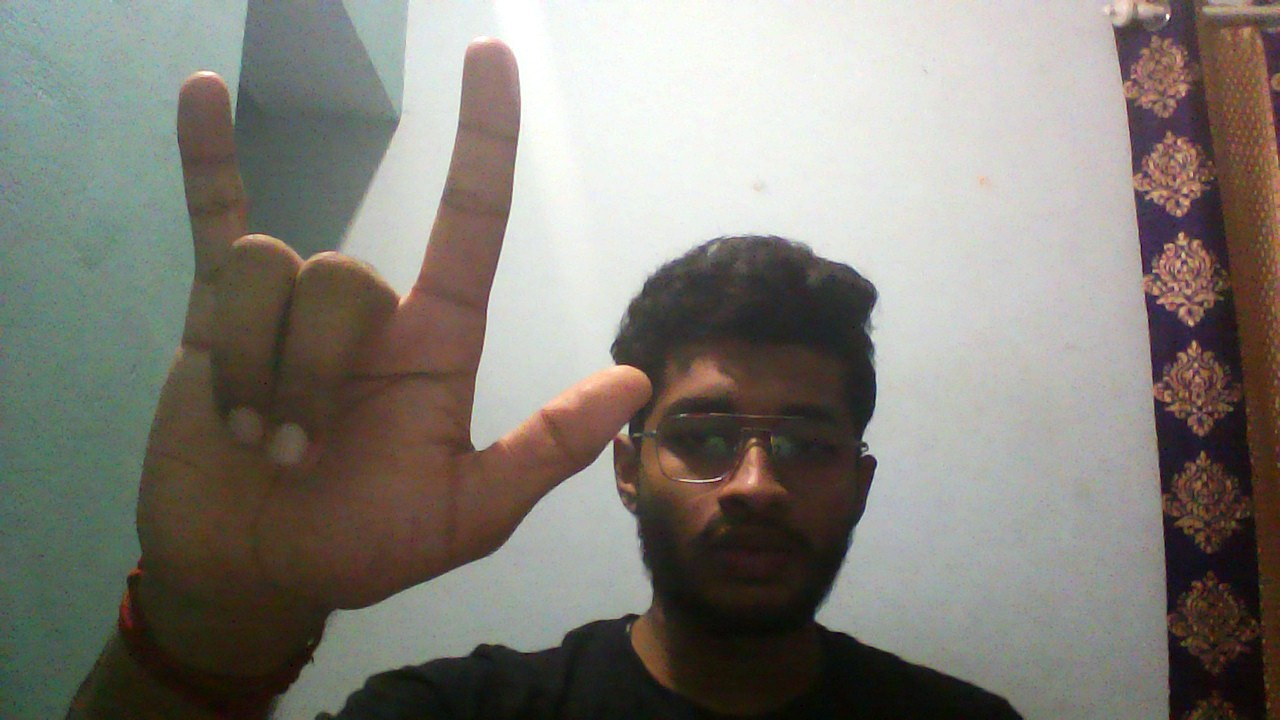I love you: (120, 25, 655, 600)
